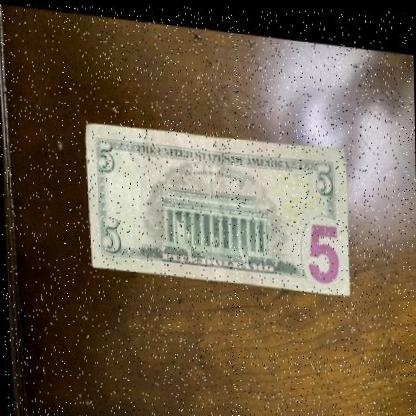dollar_back: (84, 108, 350, 294)
